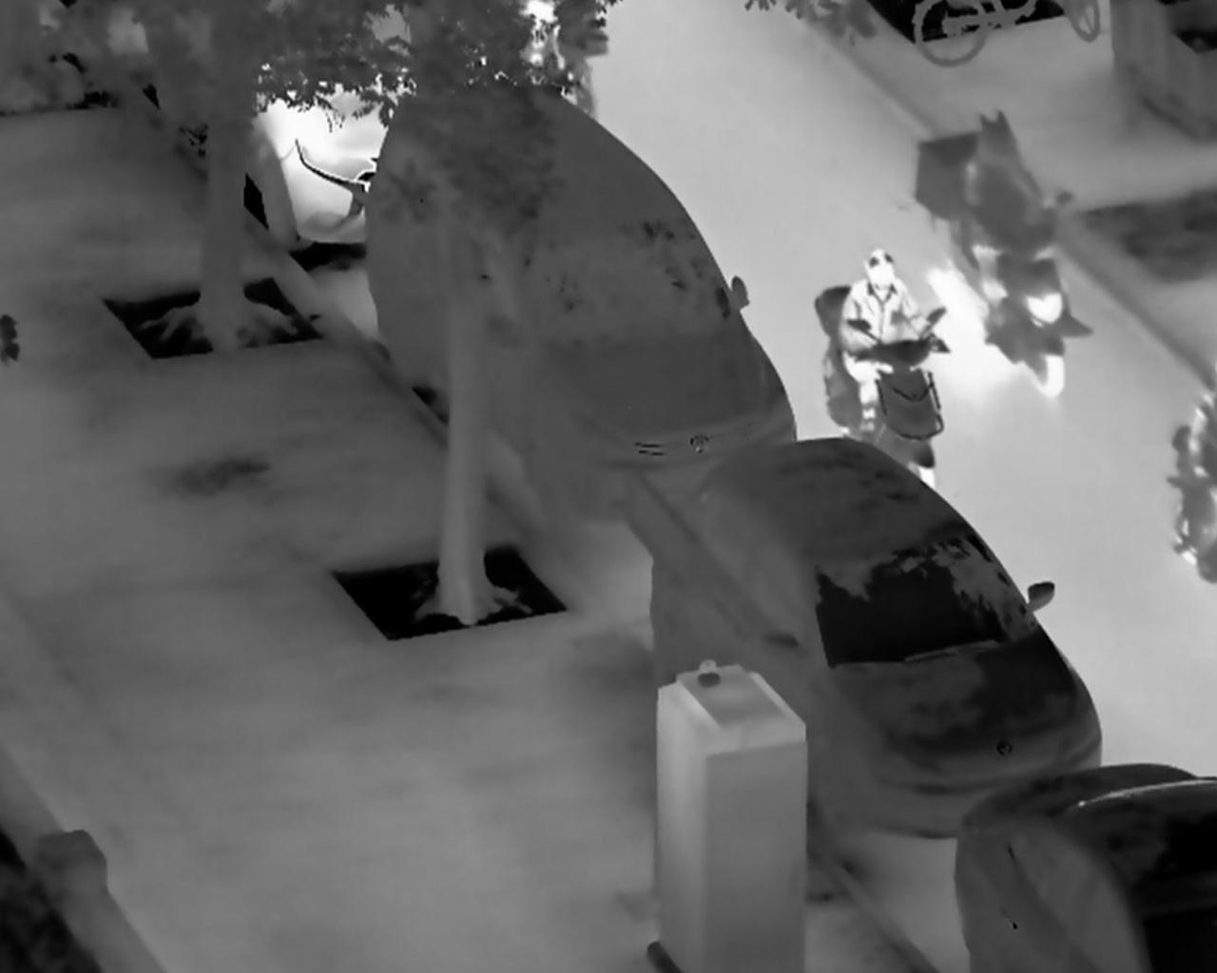person: (837, 249, 946, 439), (960, 112, 1059, 312)
